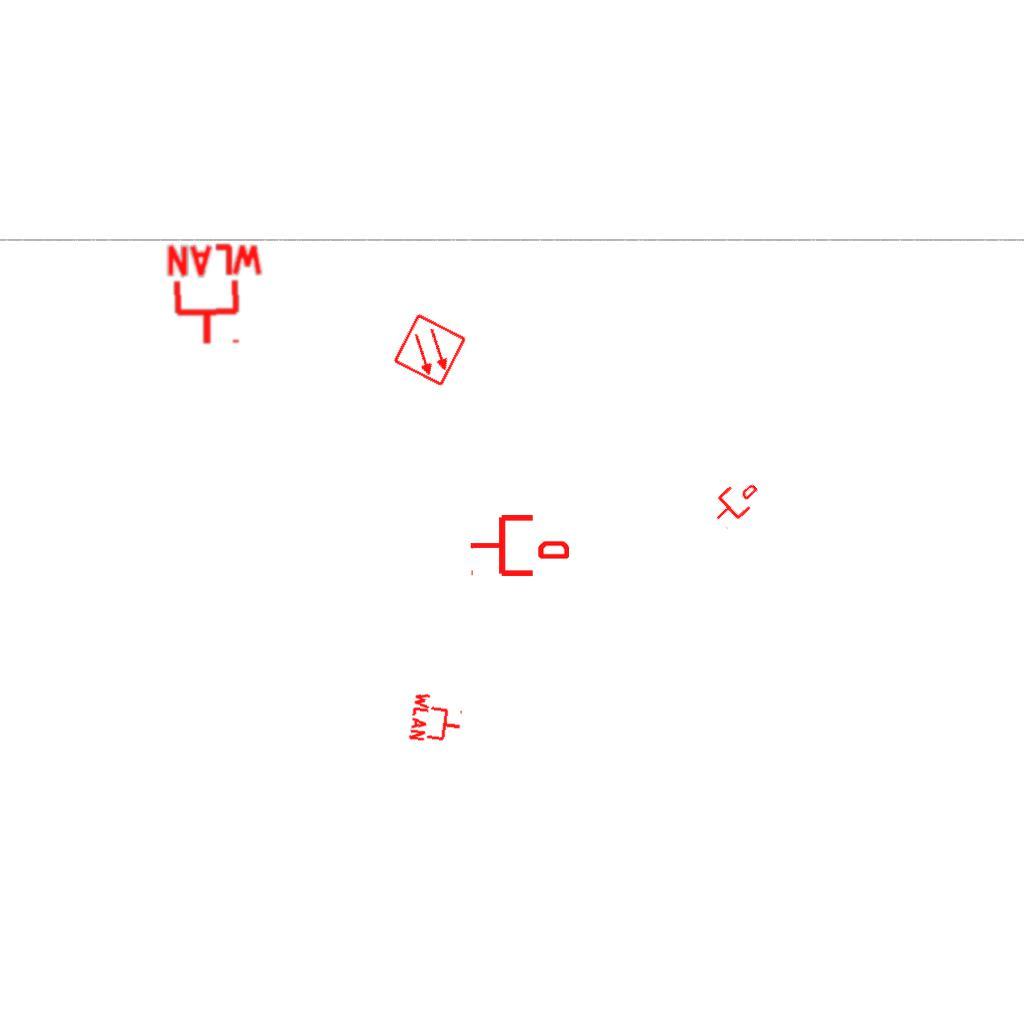Datenanschluss_einfach: (469, 511, 569, 580), (705, 472, 765, 532)
RMO_Rauchmelder_optischer: (392, 312, 468, 388)
WLAN: (162, 241, 269, 349), (407, 689, 467, 749)
